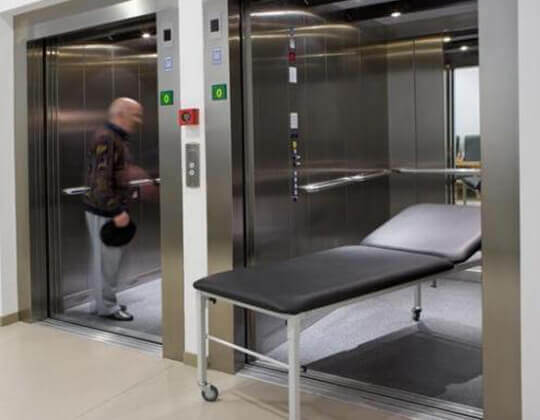trolley_bed: (190, 199, 515, 420)
